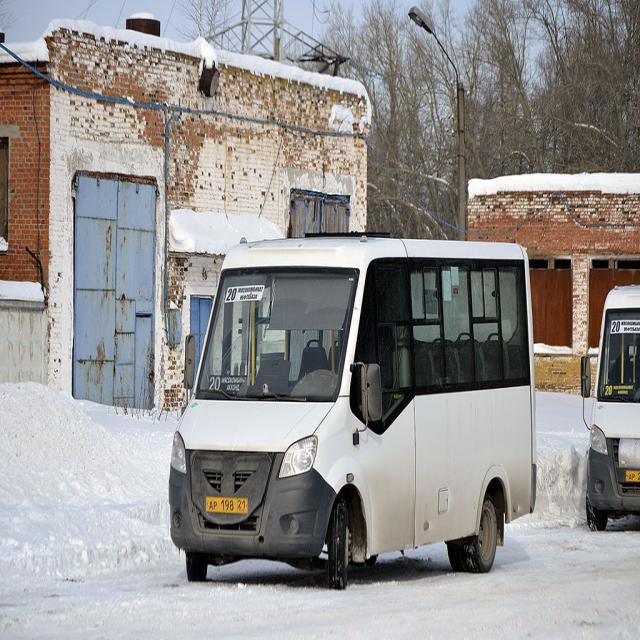number-of-bus: (209, 375, 223, 398), (227, 288, 238, 303)
